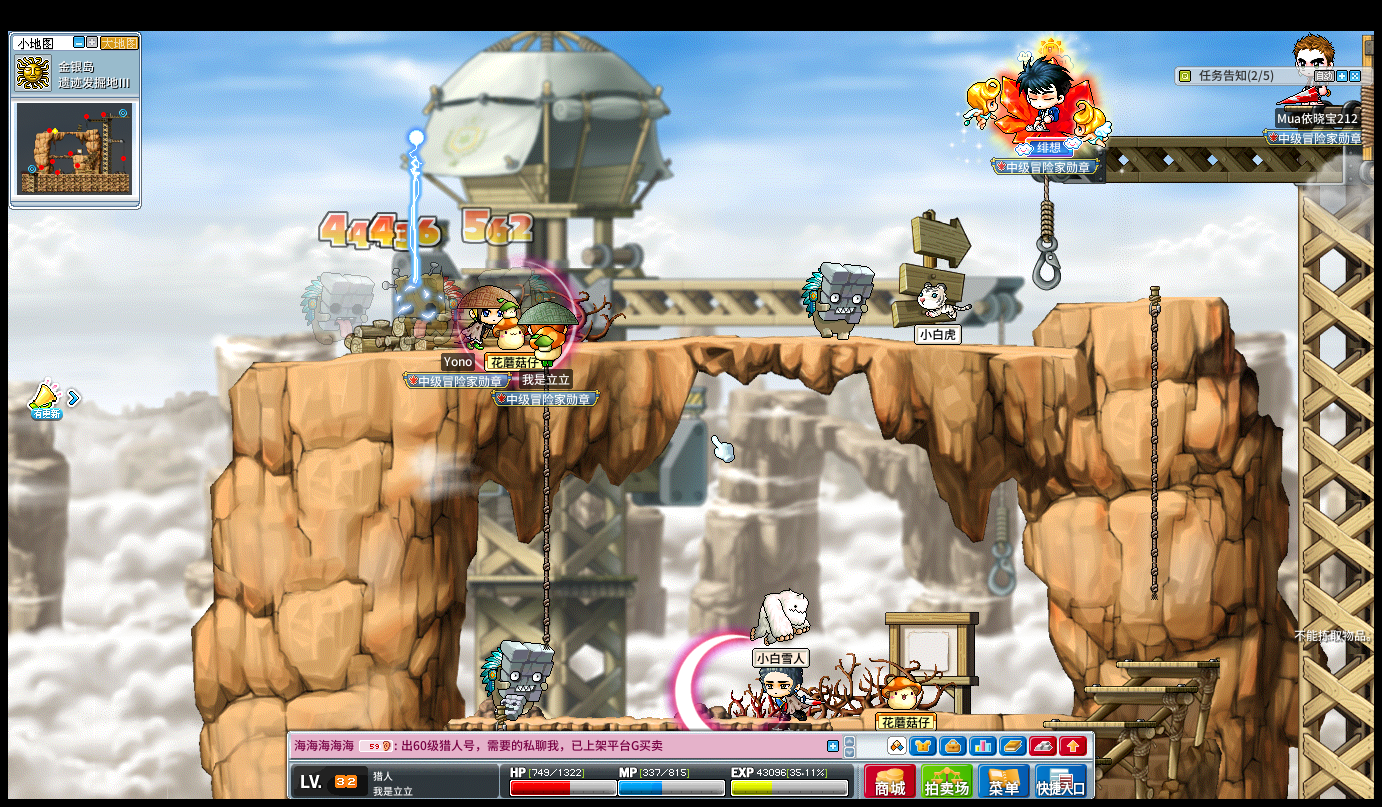floor: (206, 330, 1117, 358), (336, 331, 1083, 353), (1054, 294, 1234, 309), (1052, 291, 1228, 305), (1079, 684, 1197, 693), (1114, 659, 1220, 669), (1082, 719, 1154, 728)
monster: (299, 271, 377, 355), (388, 266, 459, 352), (800, 261, 874, 340), (480, 640, 553, 719)
rope: (1146, 278, 1160, 604), (538, 353, 551, 646), (1040, 176, 1053, 267)
